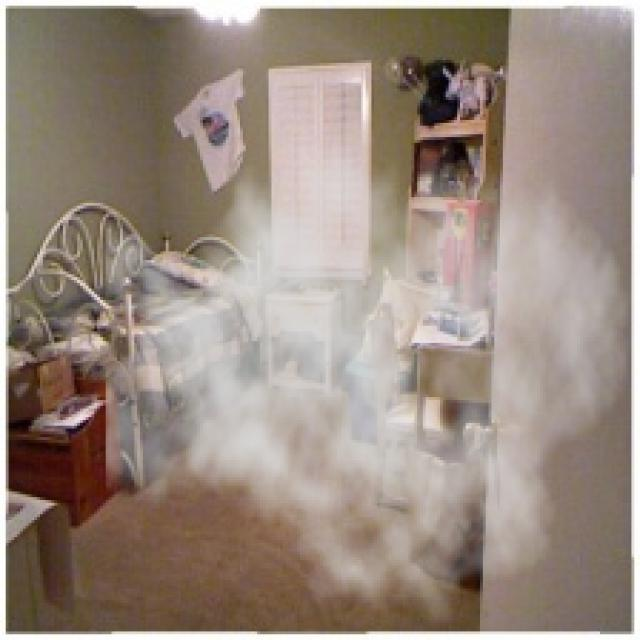smoke: (106, 83, 631, 628)
